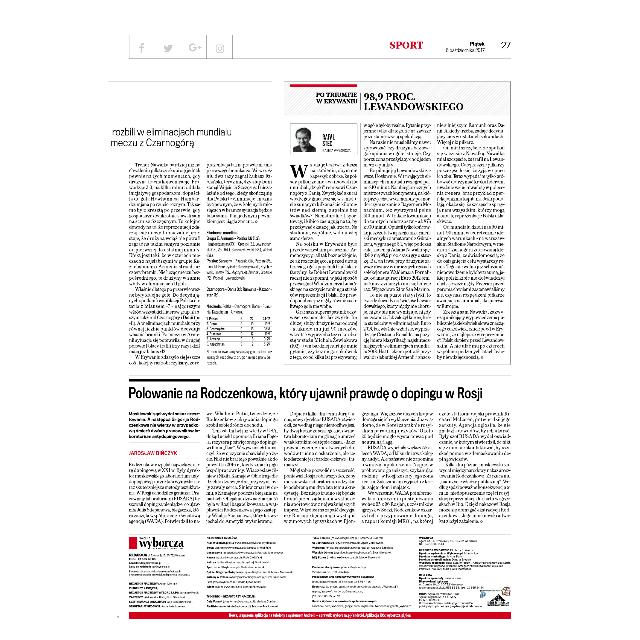article: (287, 84, 507, 362), (128, 378, 514, 528)
